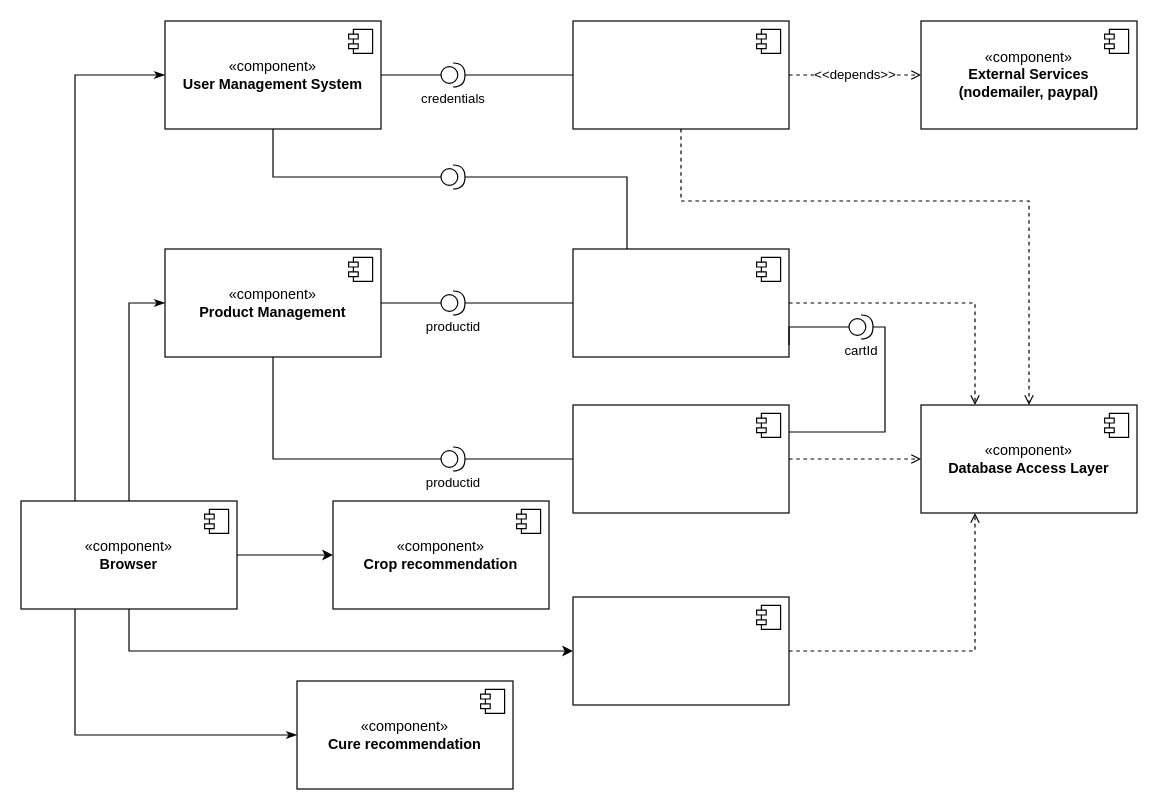
Some shapes in this 1158 by 810 pixel diagram are drawn without their labels. Here are the shapes that lost their labels. From the top down, the centre of each, then its label:
(680,74): «component» Authentication System
(452,176): userId
(680,302): «component» Cart Management
(680,458): «component» Order Management
(680,650): «component» Banner Management
